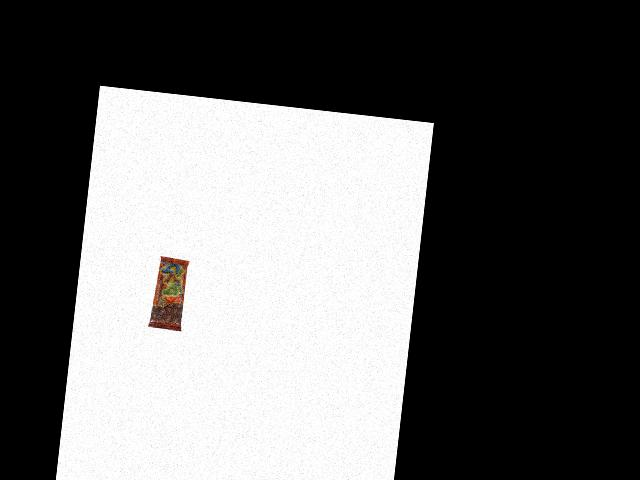chocolate: (149, 255, 189, 331)
